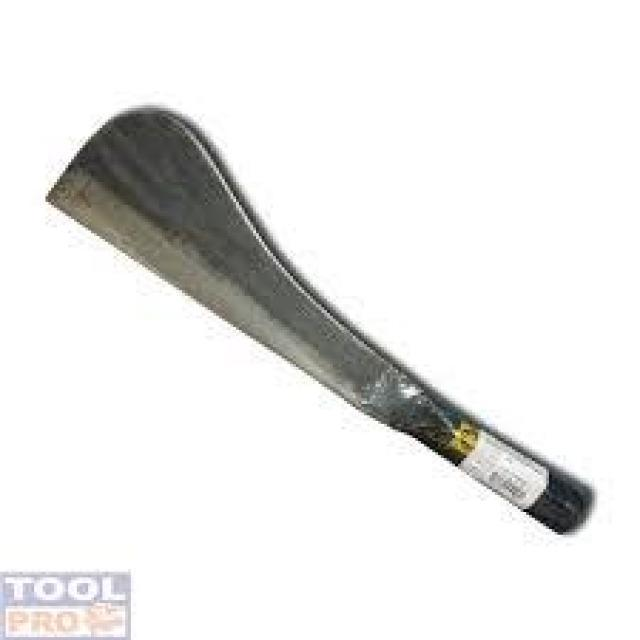eto: (36, 98, 614, 540)
